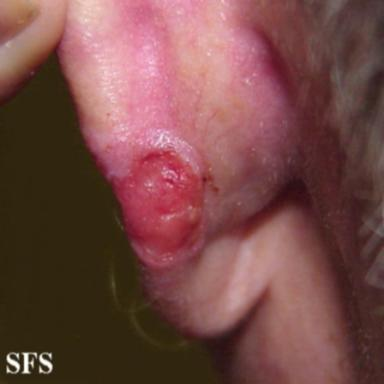basal-cell-carcinoma: (92, 130, 205, 266)
